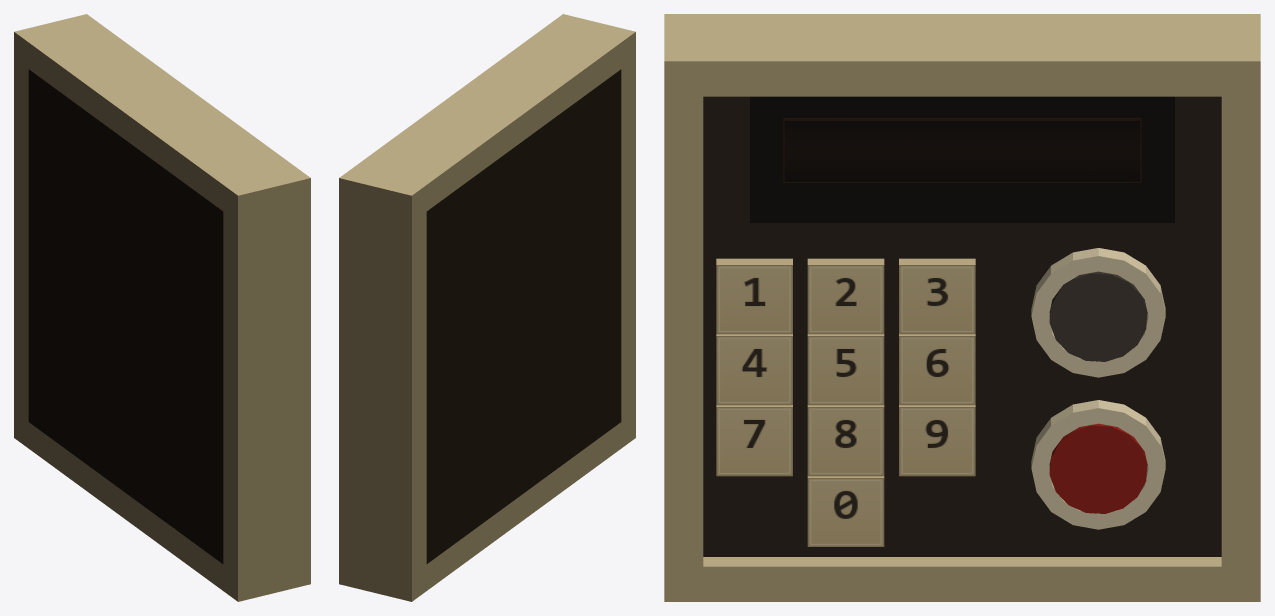
File: numpad_surface.obj
The picture shows the model from 3 angles, left to right: view 1: azimuth 30°, elevation 25°; view 2: azimuth 150°, elevation 25°; view 3: azimuth 270°, elevation 25°; orthographic projection. The views are drawn at different scales.
Visible parts, largest first — view 1: Body; view 2: Body; view 3: Body, BtnTop, BtnBot, Key2, Key1, Key3, Key5, Key8, Key4, Key6, Key7, Key9 (+1 smaller).
Part boxes in pixels (x1,y1,x2,y2): Body: (14,14,310,601); Body: (339,14,635,601); Body: (664,14,1260,601); BtnTop: (1049,271,1147,361); BtnBot: (1049,423,1147,513); Key2: (807,258,884,334); Key1: (716,258,792,334); Key3: (899,258,975,334); Key5: (807,334,884,405); Key8: (807,405,884,476); Key4: (716,334,792,405); Key6: (899,334,975,405); Key7: (716,405,792,476); Key9: (899,405,975,476).
Bounding box in the file's own units: 0.1875 × 1 × 1.
